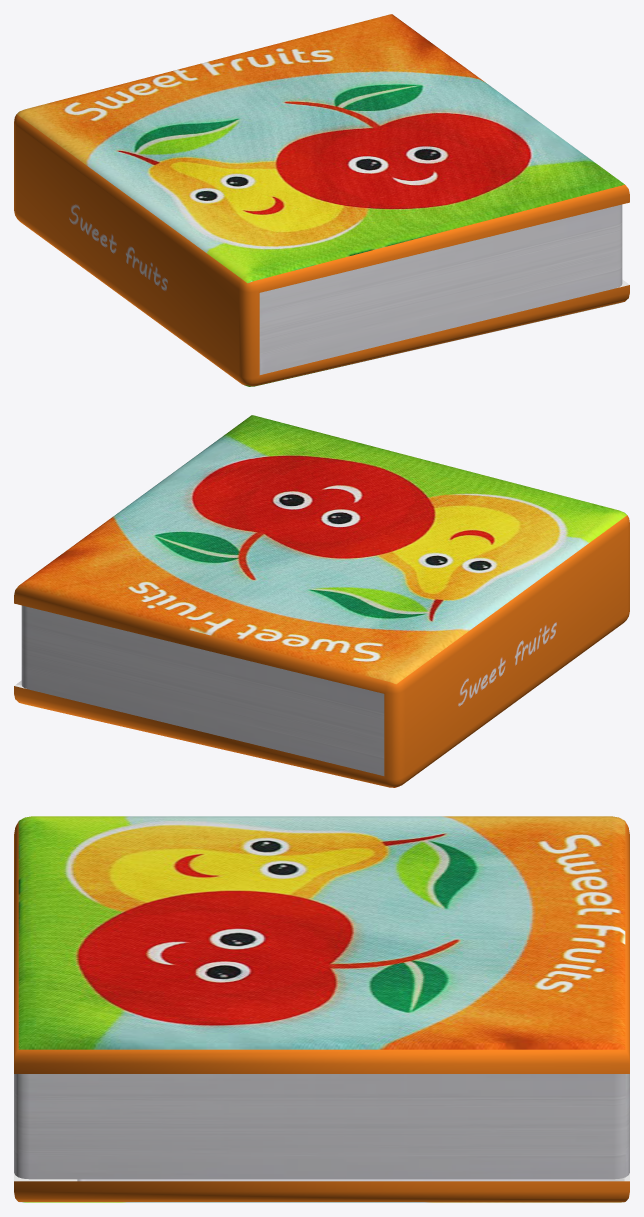
File: Book 2.fbx
The picture shows the model from 3 angles, top to bottom: view 1: azimuth 30°, elevation 25°; view 2: azimuth 150°, elevation 25°; view 3: azimuth 270°, elevation 25°; orthographic projection. The views are drawn at different scales.
Parts seen in each view (by area): view 1: Book 2; view 2: Book 2; view 3: Book 2.
Boxes of the visible parts, x1,y1,x2,y2 form: Book 2: (14, 14, 629, 386); Book 2: (14, 415, 629, 787); Book 2: (14, 816, 629, 1202).
Size of the model in its own units: 97.62 by 29.94 by 104.
1 material, 1 textured.
